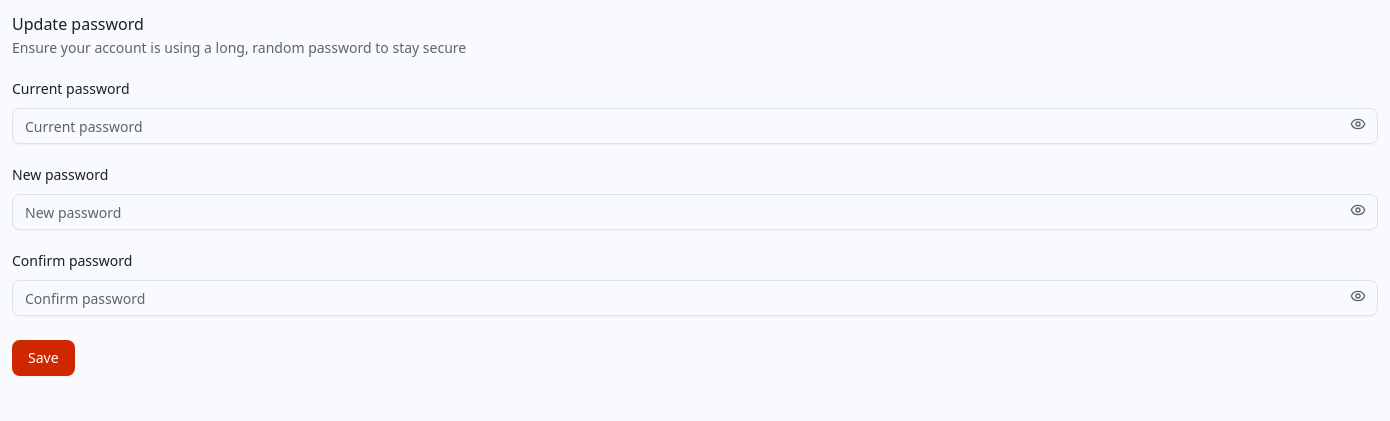
Settings/Security page › focuses the new password input when it fails validation
Click the button "Save".
click(43, 358)  # box [12,340,75,376]
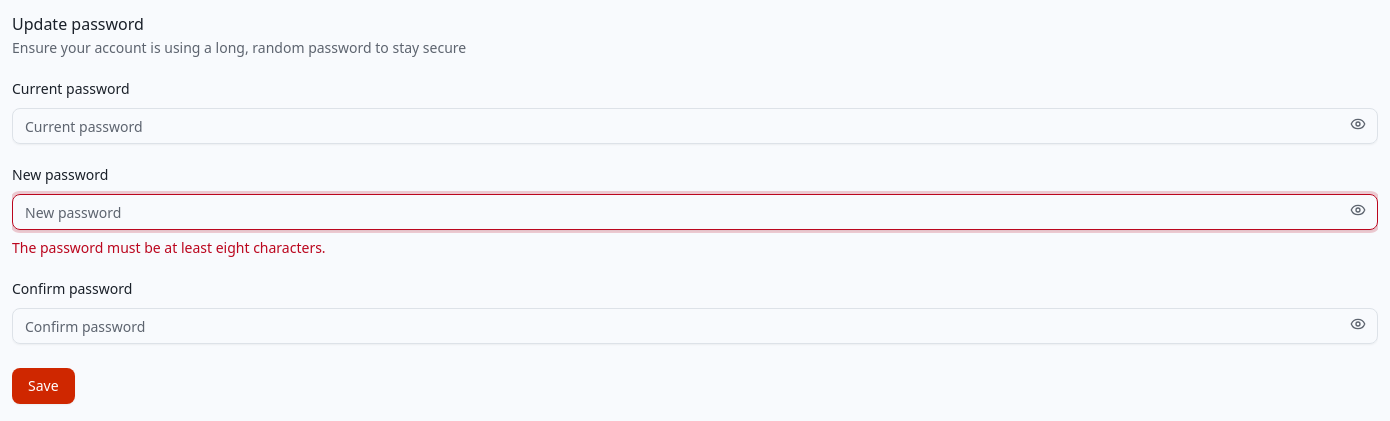
Now the text "The password must be at least eight characters." is shown, box [12,238,326,257]
